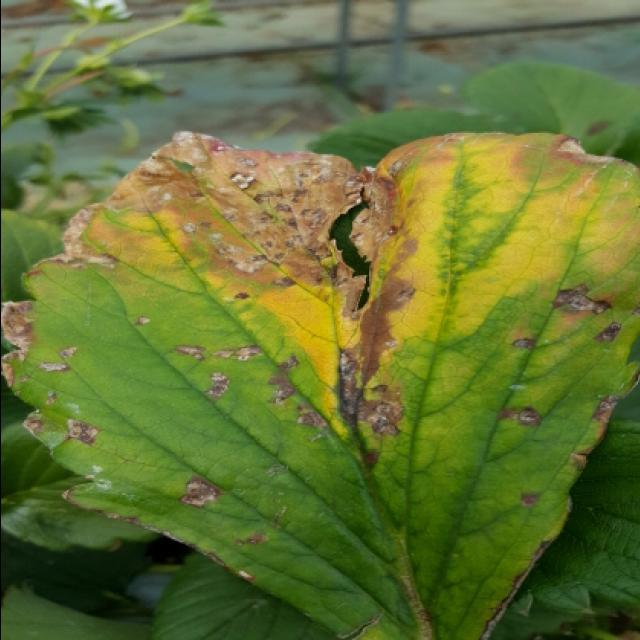Angular Leafspot: (2, 129, 640, 638)
